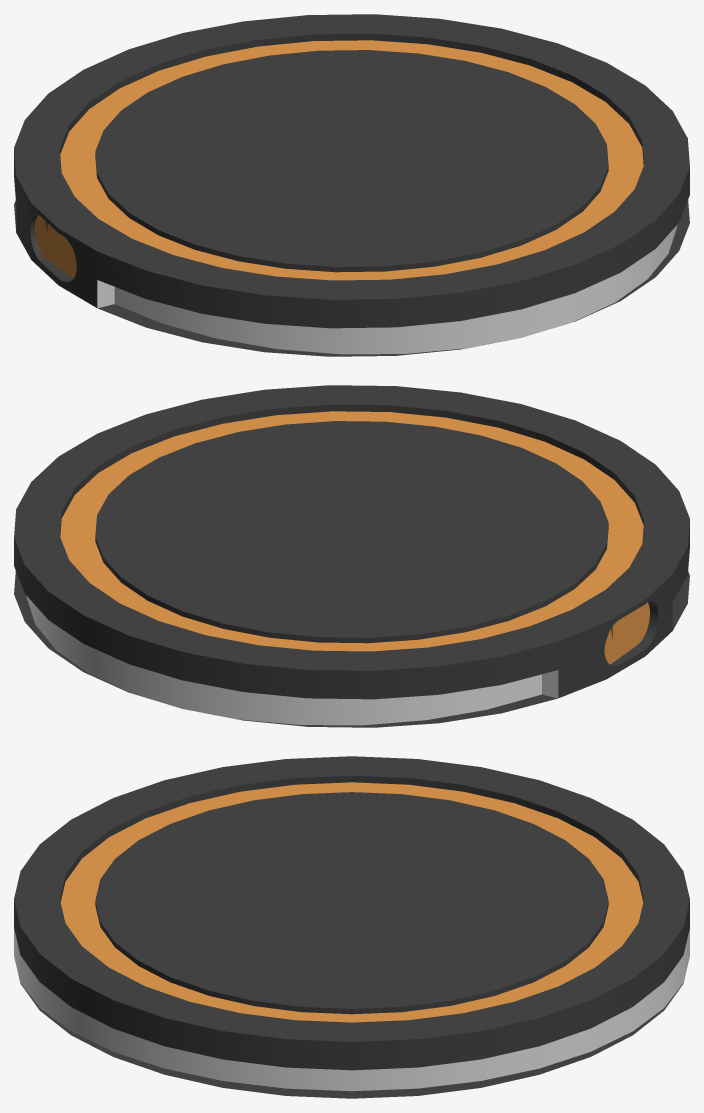
Rendered from Pilesos.fbx.
3 renders of one model, top to bottom at view 1: azimuth 30°, elevation 25°; view 2: azimuth 150°, elevation 25°; view 3: azimuth 270°, elevation 25°, orthographic.
Visible parts, largest first — view 1: Circle.001; view 2: Circle.001; view 3: Circle.001.
Boxes of the visible parts, bbox=[...] form: Circle.001: bbox=[14, 14, 689, 356]; Circle.001: bbox=[14, 385, 689, 727]; Circle.001: bbox=[14, 756, 689, 1098].
Size of the model in its own units: 198 by 18.38 by 198.
